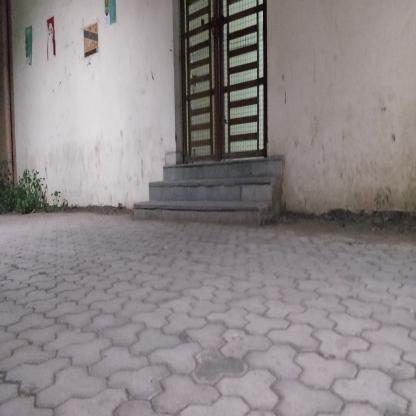stairs: (167, 156, 277, 233)
